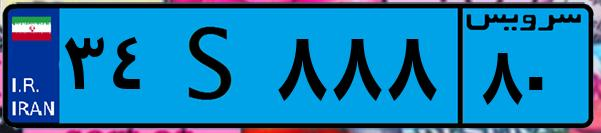0: (525, 38, 570, 115)
3: (57, 26, 110, 100)
4: (110, 28, 158, 98)
8: (270, 28, 330, 110), (385, 28, 445, 110), (330, 28, 385, 110), (475, 38, 525, 113)
S: (158, 12, 270, 120)
